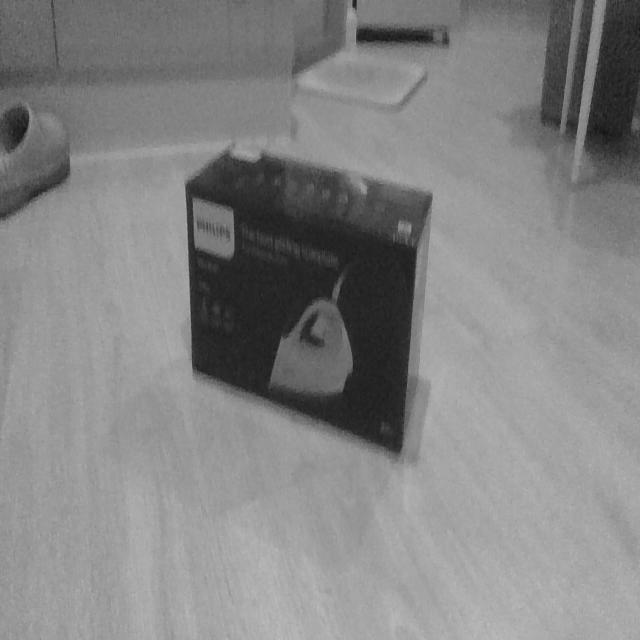IRON: (182, 140, 434, 460)
